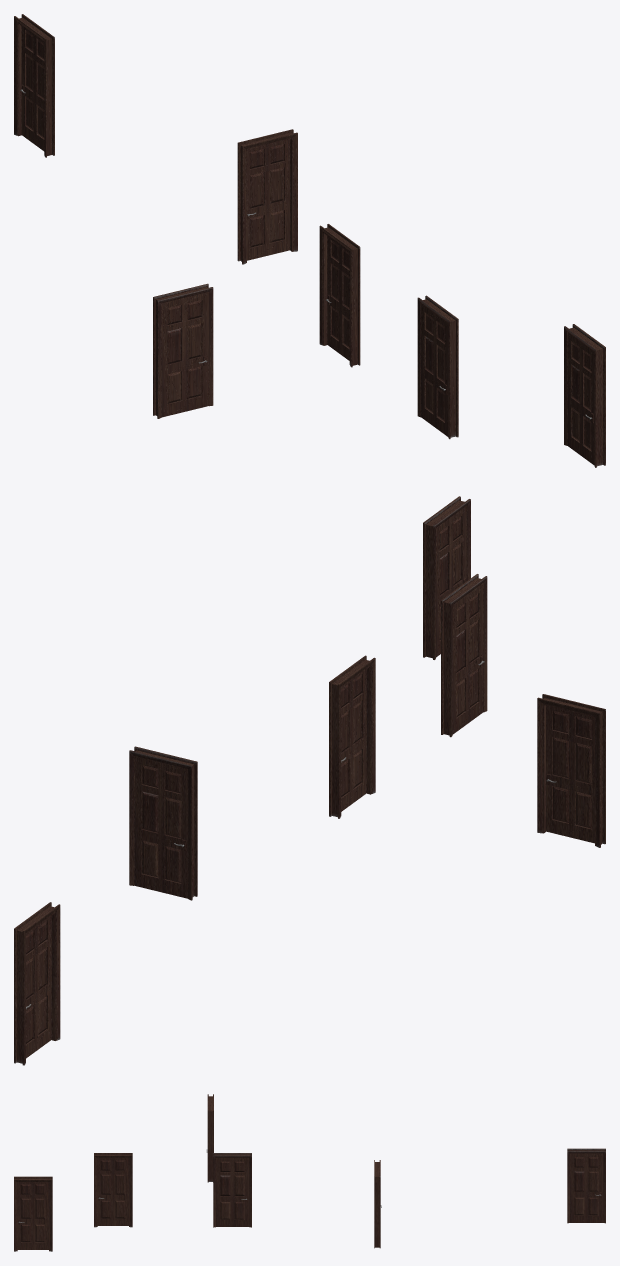
File: Puertas.obj
The picture shows the model from 3 angles, top to bottom: view 1: azimuth 30°, elevation 25°; view 2: azimuth 150°, elevation 25°; view 3: azimuth 270°, elevation 25°; orthographic projection. The views are drawn at different scales.
Parts seen in each view (by area): view 1: 3d-model.007_3d-model.008, 3d-model.010_3d-model.011, 3d-model, 3d-model.008_3d-model.009, 3d-model.009_3d-model.010, 3d-model.011_3d-model.012; view 2: 3d-model.010_3d-model.011, 3d-model.007_3d-model.008, 3d-model.008_3d-model.009, 3d-model.009_3d-model.010, 3d-model.011_3d-model.012, 3d-model; view 3: 3d-model.011_3d-model.012, 3d-model, 3d-model.009_3d-model.010, 3d-model.008_3d-model.009, 3d-model.007_3d-model.008, 3d-model.010_3d-model.011.
Boxes of the visible parts, bbox=[...] form: 3d-model.007_3d-model.008: bbox=[153, 283, 213, 418]; 3d-model.010_3d-model.011: bbox=[237, 129, 297, 264]; 3d-model: bbox=[564, 324, 605, 467]; 3d-model.008_3d-model.009: bbox=[417, 295, 458, 439]; 3d-model.009_3d-model.010: bbox=[319, 224, 360, 367]; 3d-model.011_3d-model.012: bbox=[14, 14, 54, 157]; 3d-model.010_3d-model.011: bbox=[129, 746, 197, 900]; 3d-model.007_3d-model.008: bbox=[537, 694, 605, 847]; 3d-model.008_3d-model.009: bbox=[441, 574, 487, 737]; 3d-model.009_3d-model.010: bbox=[329, 655, 375, 818]; 3d-model.011_3d-model.012: bbox=[14, 902, 60, 1065]; 3d-model: bbox=[423, 496, 470, 659]; 3d-model.011_3d-model.012: bbox=[567, 1148, 605, 1223]; 3d-model: bbox=[14, 1176, 52, 1251]; 3d-model.009_3d-model.010: bbox=[213, 1153, 251, 1227]; 3d-model.008_3d-model.009: bbox=[94, 1153, 132, 1227]; 3d-model.007_3d-model.008: bbox=[206, 1094, 213, 1182]; 3d-model.010_3d-model.011: bbox=[374, 1160, 381, 1248].
Bounding box in the file's own units: 23.33 × 9.14 × 68.23.
6 materials, 6 textured.
